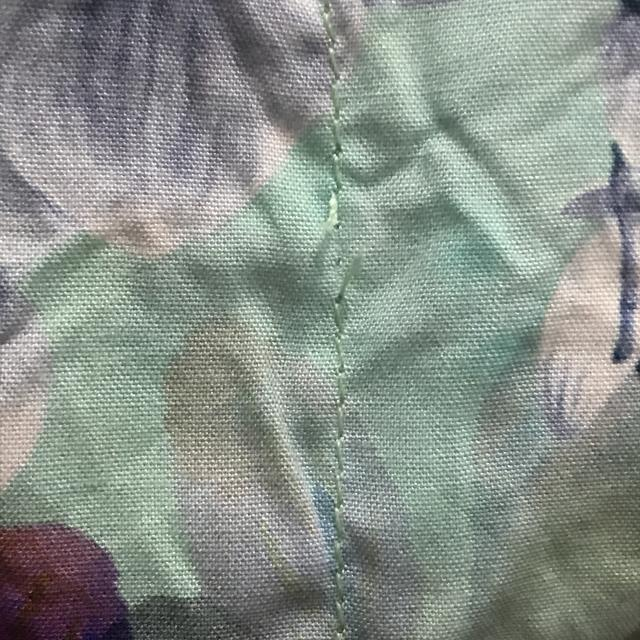broken: (289, 180, 380, 344)
good: (322, 396, 370, 571)
